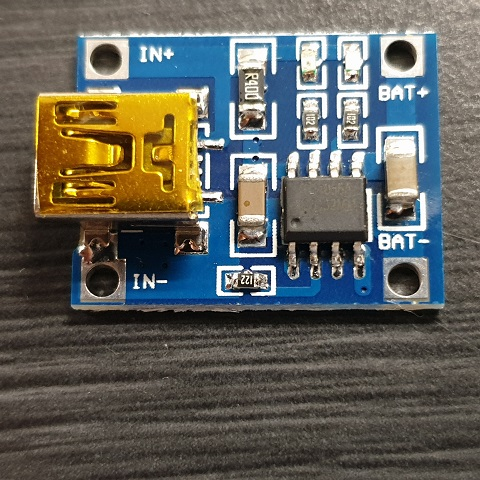batt+: (386, 35, 432, 75)
batt-: (382, 259, 421, 298)
charge: (294, 30, 336, 90)
done: (328, 31, 372, 91)
rprog: (218, 266, 280, 294)
usb: (32, 90, 212, 222)
